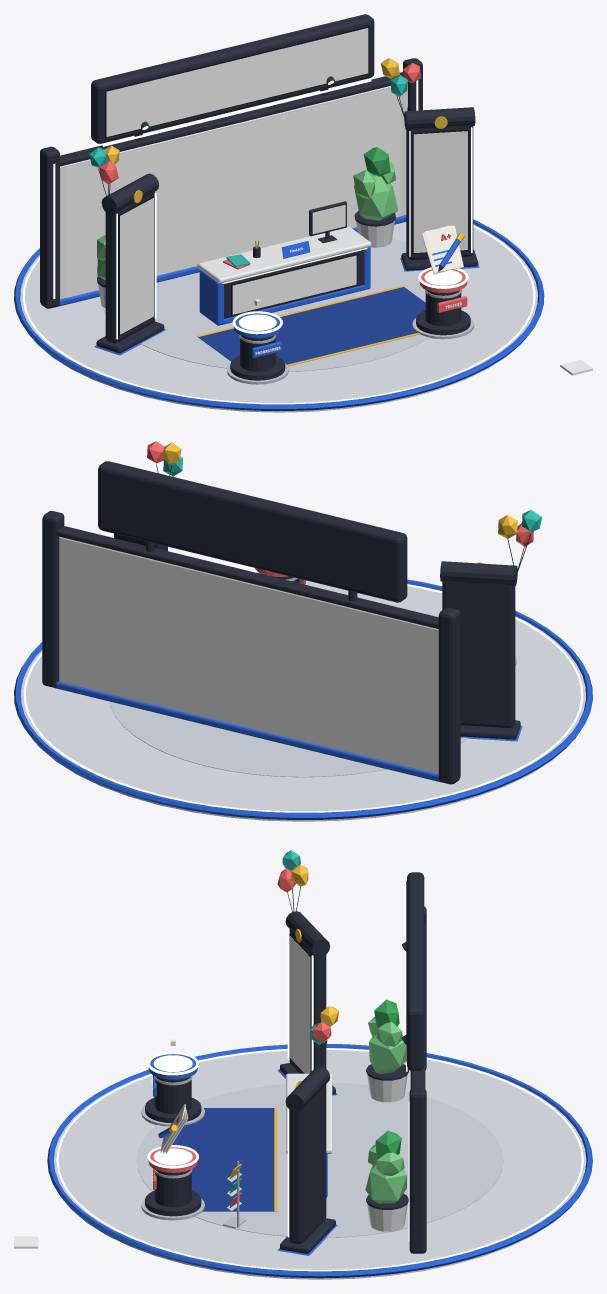
Rendered from FindJob.fbx.
3 views of the same model, one above another, from view 1: azimuth 30°, elevation 25°; view 2: azimuth 150°, elevation 25°; view 3: azimuth 270°, elevation 25° (orthographic). The views are drawn at different scales.
Visible parts, largest first — view 1: Marker_ScreenWall__white, Stand_Platform__platform, Marker_ScreenHeader__white, Decor_PlatformInlay__inlay, Decor_Carpet__carpet, Stand_Header__frame, Marker_ScreenTotemRight__white, Decor_PlatformRim__blue, Marker_ScreenTotemLeft__white, Stand_TotemLeft__frame, Marker_ScreenDesk__white, Stand_Pillars__frame (+23 smaller); view 2: Stand_BackWall__panel, Stand_Platform__platform, Stand_Header__frame, Stand_TotemLeft__frame, Decor_PlatformInlay__inlay, Stand_Pillars__frame, Decor_PlatformRim__blue, Decor_WallCap__frame, Decor_WallKick__blue, Decor_PlatformLed__glow; view 3: Stand_Platform__platform, Decor_PlatformInlay__inlay, Decor_Carpet__carpet, Decor_PlatformRim__blue, Stand_TotemRight__frame, Stand_Header__frame, Stand_Pillars__frame, Marker_ScreenTotemLeft__white, Decor_PlatformLed__glow, Stand_TotemLeft__frame, ExamPedestal_Base__frame, Decor_PlantRightLeaves__leaf (+7 smaller).
Boxes of the visible parts, x1,y1,x2,y2 form: Marker_ScreenWall__white: (67,89,400,297); Stand_Platform__platform: (20,222,537,412); Marker_ScreenHeader__white: (106,28,368,136); Decor_PlatformInlay__inlay: (102,238,428,371); Decor_Carpet__carpet: (198,287,425,364); Stand_Header__frame: (91,14,374,143); Marker_ScreenTotemRight__white: (413,131,467,252); Decor_PlatformRim__blue: (14,219,544,410); Marker_ScreenTotemLeft__white: (120,198,153,334); Stand_TotemLeft__frame: (96,173,164,353); Marker_ScreenDesk__white: (232,255,356,314); Stand_Pillars__frame: (40,58,422,308); Stand_BackWall__panel: (59,536,438,773); Stand_Platform__platform: (21,580,585,821); Stand_Header__frame: (98,461,407,602); Stand_TotemLeft__frame: (440,561,520,739); Decor_PlatformInlay__inlay: (109,701,468,777); Stand_Pillars__frame: (42,511,460,784); Decor_PlatformRim__blue: (14,572,592,819); Decor_WallCap__frame: (56,526,438,628); Decor_WallKick__blue: (54,681,440,782); Decor_PlatformLed__glow: (23,584,583,812); Stand_Platform__platform: (54,1048,586,1279); Decor_PlatformInlay__inlay: (136,1082,503,1237); Decor_Carpet__carpet: (170,1108,274,1211); Decor_PlatformRim__blue: (47,1044,592,1278); Stand_TotemRight__frame: (280,1066,335,1253); Stand_Header__frame: (407,872,424,1070); Stand_Pillars__frame: (409,906,426,1253); Marker_ScreenTotemLeft__white: (289,935,310,1073); Decor_PlatformLed__glow: (56,1048,583,1271); Stand_TotemLeft__frame: (280,911,335,1094); ExamPedestal_Base__frame: (145,1170,201,1216); Decor_PlantRightLeaves__leaf: (365,1144,406,1203).
Size of the model in its own units: 44.56 by 20.3 by 47.28.
